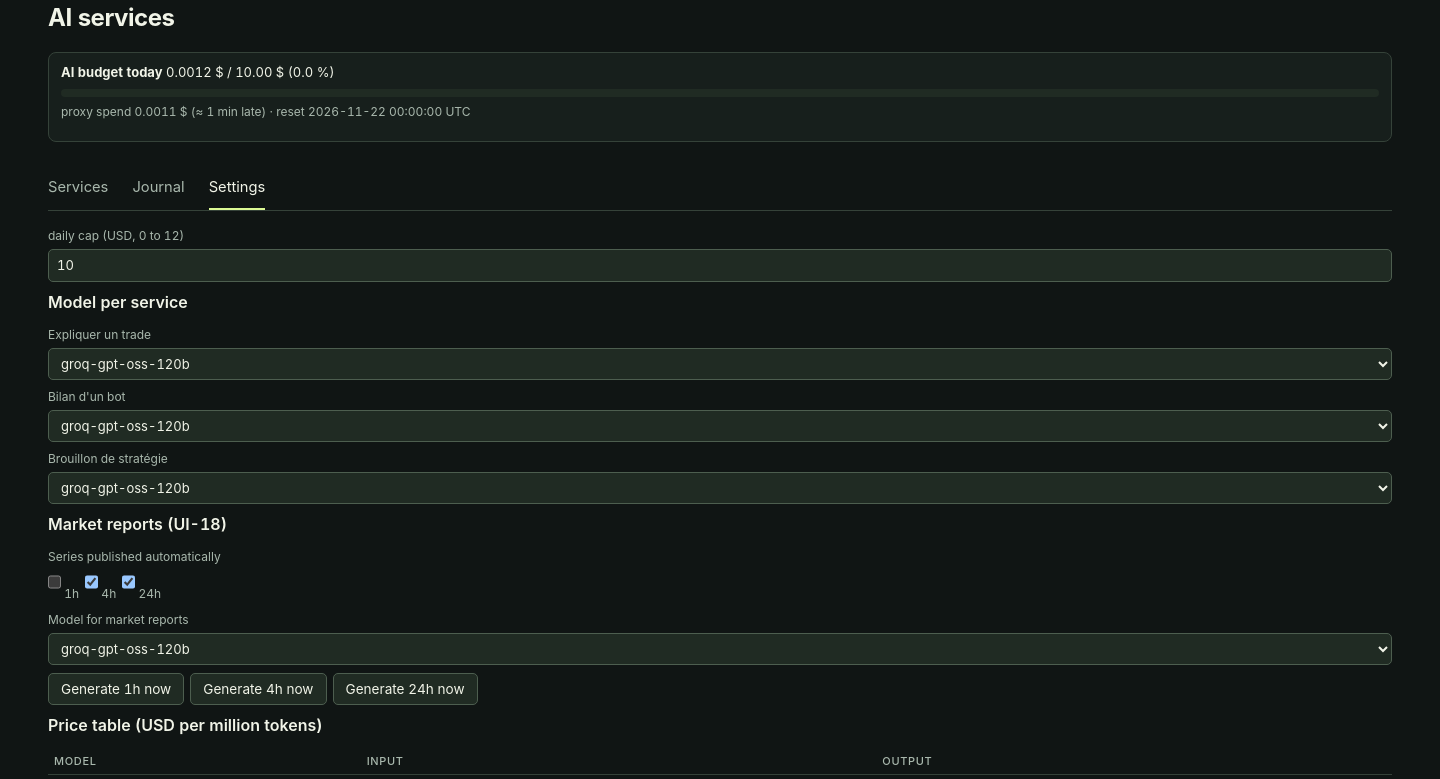
Test: AI services screen › UI-18: settings show the market report series and request a report now
The width and height of the screenshot is (1440, 779).
Expected: the dropdown labelled "Model for market reports" shows "groq-gpt-oss-120b", x1=48 y1=633 x2=1392 y2=665
Click the button "Generate 4h now". click: (258, 689)
box: x1=190 y1=673 x2=327 y2=706
(page scrolled)
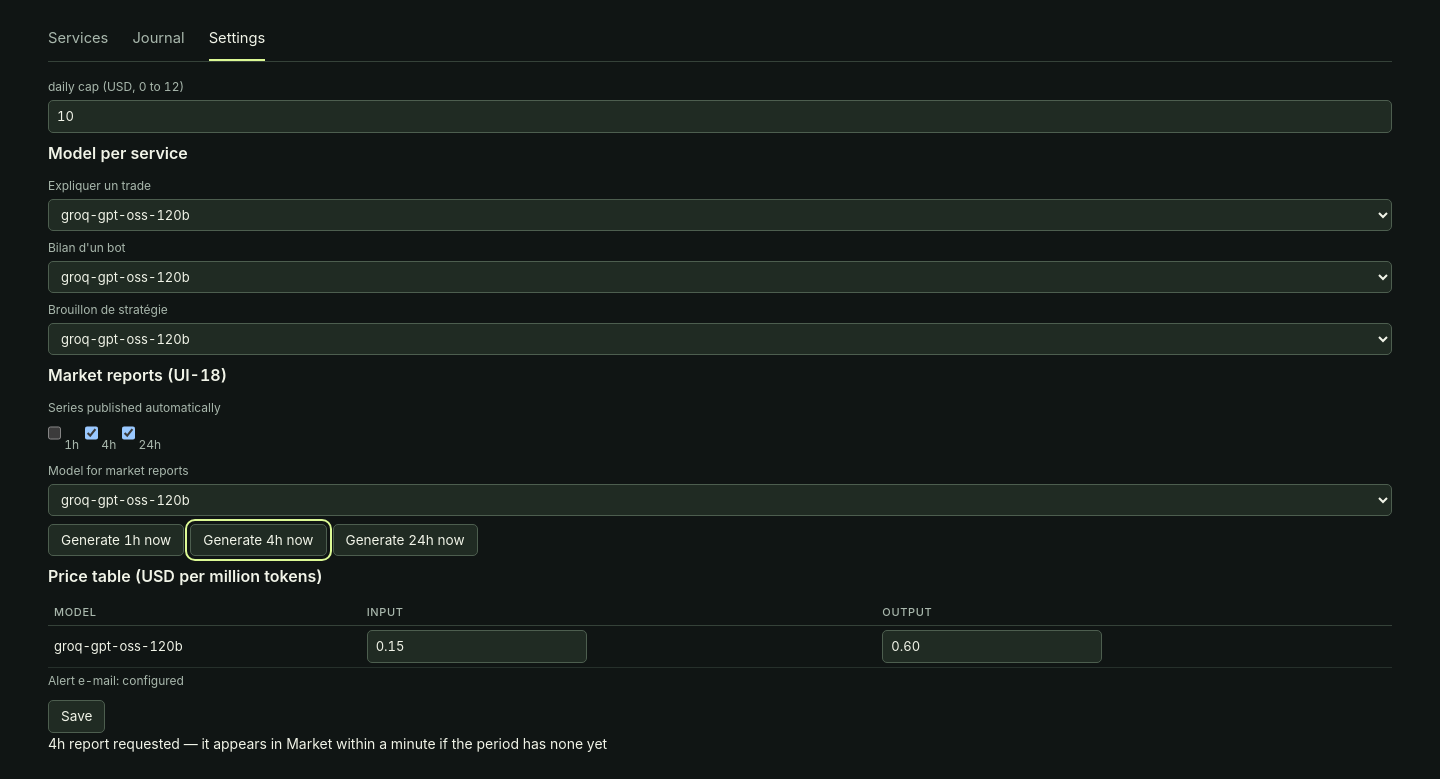
Result: the text "4h report requested" is shown at x1=48 y1=735 x2=607 y2=752
